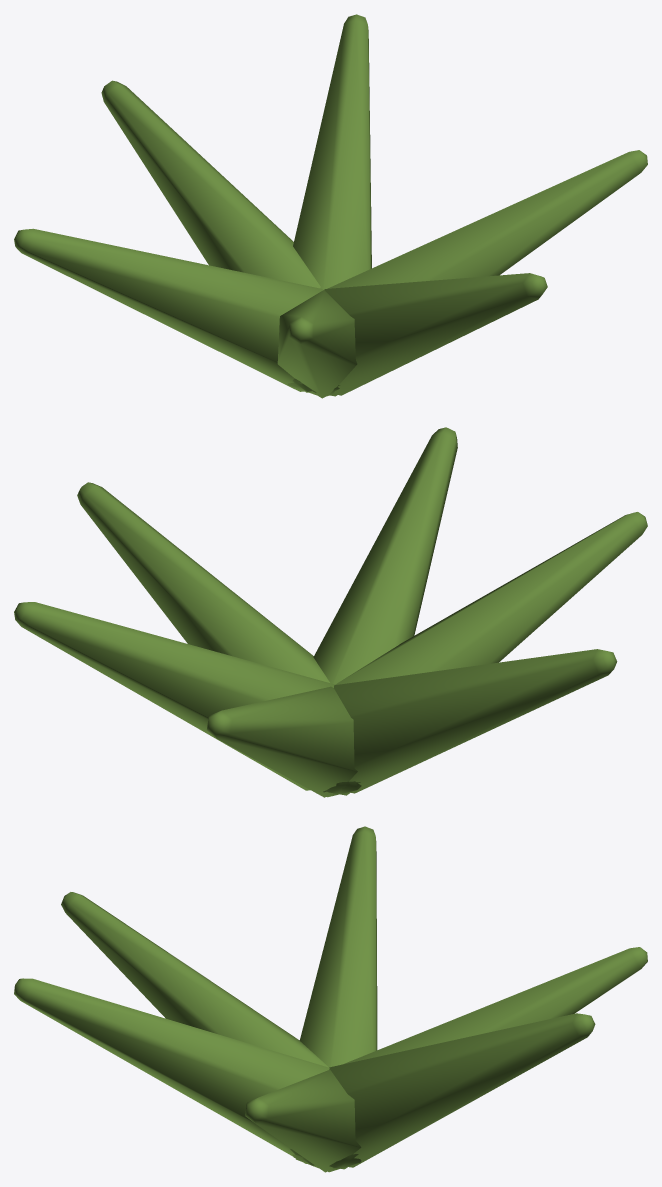
Rendered from prop_fern5_70b3.glb.
The picture shows the model from 3 angles, top to bottom: view 1: azimuth 30°, elevation 25°; view 2: azimuth 150°, elevation 25°; view 3: azimuth 270°, elevation 25°; orthographic projection. The views are drawn at different scales.
Visible parts, largest first — view 1: prop_fern5_70b3; view 2: prop_fern5_70b3; view 3: prop_fern5_70b3.
Part boxes in pixels (x1,y1,x2,y2): prop_fern5_70b3: [14, 14, 647, 398]; prop_fern5_70b3: [14, 427, 647, 797]; prop_fern5_70b3: [14, 826, 647, 1172].
Size of the model in its own units: 0.6327 by 0.2529 by 0.6336.
1 material, 1 textured.
